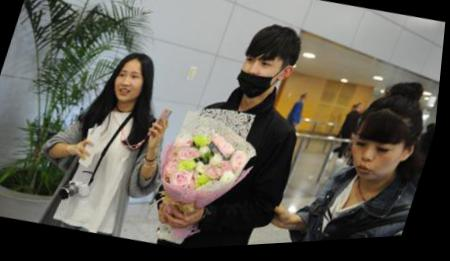NONE: (349, 130, 410, 194), (111, 65, 150, 108)
WRONG: (235, 51, 289, 107)
